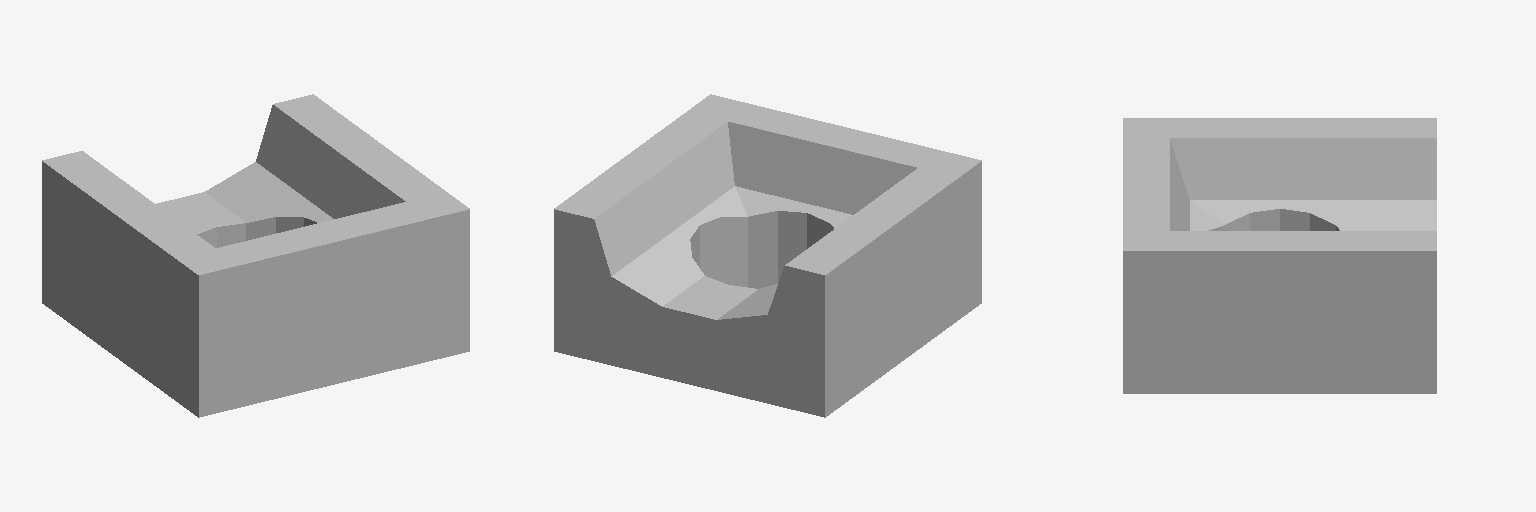
The model's file is end-hole-square.obj.
3 renders of one model, left to right at view 1: azimuth 30°, elevation 25°; view 2: azimuth 150°, elevation 25°; view 3: azimuth 270°, elevation 25°, orthographic.
Parts seen in each view (by area): view 1: end-hole-square; view 2: end-hole-square; view 3: end-hole-square.
Part boxes in pixels (x1,y1,x2,y2): end-hole-square: (42, 94, 469, 417); end-hole-square: (554, 94, 981, 417); end-hole-square: (1123, 118, 1436, 393).
Bounding box in the file's own units: 1 × 0.5 × 1.